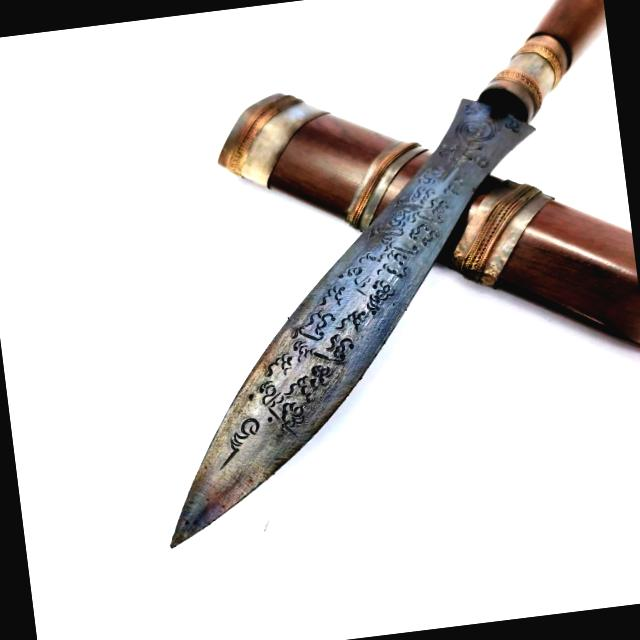short sword: (93, 0, 640, 558)
